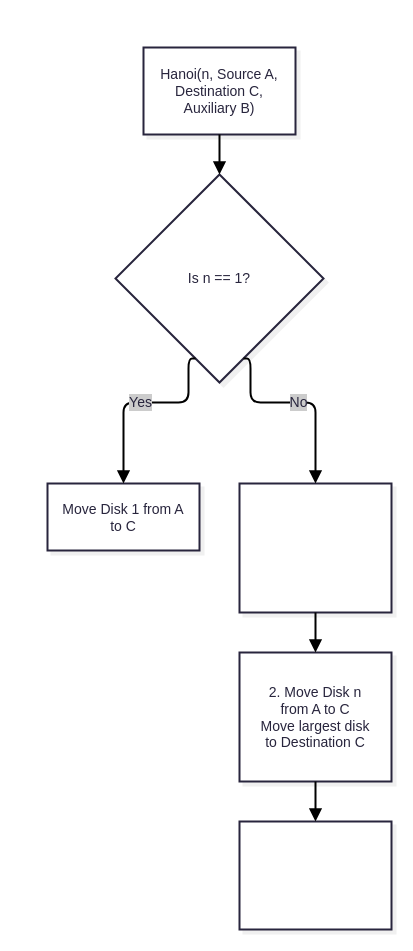
The diagram is 413 pixels wide and 951 high, and some of its shapes have lost their labels. Each missing label, with the centre of its shape:
"1. Hanoi(n-1, A, B, C) Move top n-1 disks to Auxiliary B" belongs at point (317, 549).
"3. Hanoi(n-1, B, C, A) Move n-1 disks from B to C" belongs at point (317, 877).
